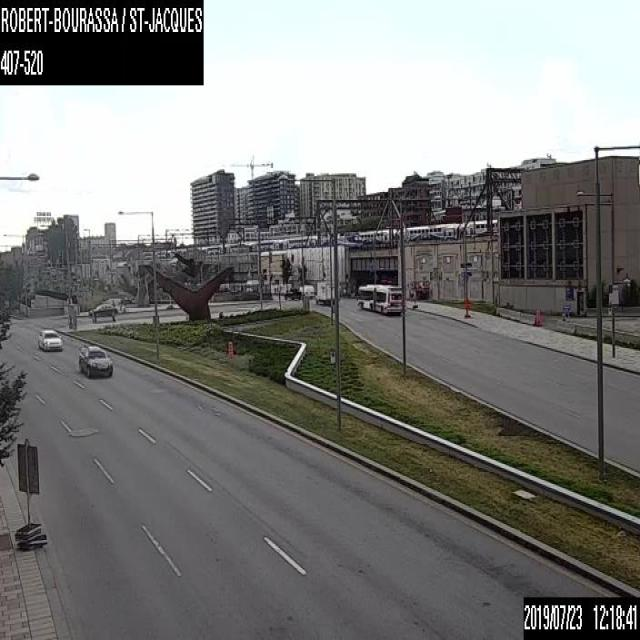bus: (354, 282, 402, 314)
construction: (224, 337, 232, 359), (532, 307, 542, 324), (463, 296, 471, 317)
vehicle: (76, 341, 112, 376), (36, 326, 62, 351), (315, 280, 340, 304), (88, 299, 117, 316)
